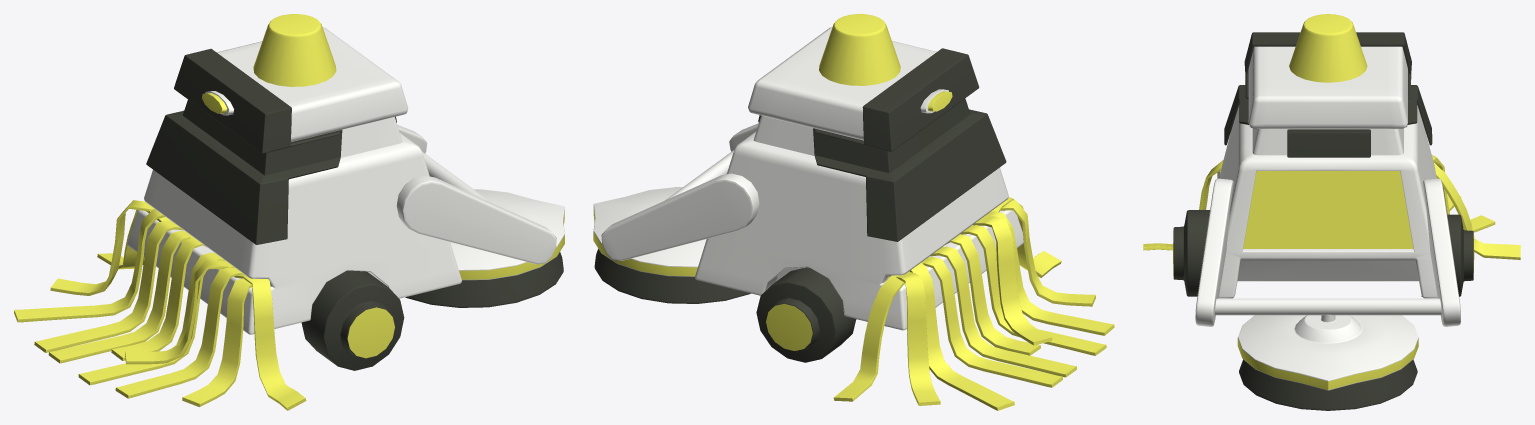
Rendered from robot_nettoyeur.fbx.
The picture shows the model from 3 angles, left to right: view 1: azimuth 30°, elevation 25°; view 2: azimuth 150°, elevation 25°; view 3: azimuth 270°, elevation 25°; orthographic projection. The views are drawn at different scales.
Parts seen in each view (by area): view 1: robot_nettoyeur; view 2: robot_nettoyeur; view 3: robot_nettoyeur.
Part boxes in pixels (<box>): robot_nettoyeur: <box>14,14,564,410</box>; robot_nettoyeur: <box>593,14,1114,410</box>; robot_nettoyeur: <box>1143,14,1520,410</box>.
Bounding box in the file's own units: 2.72 × 1.52 × 1.9.
